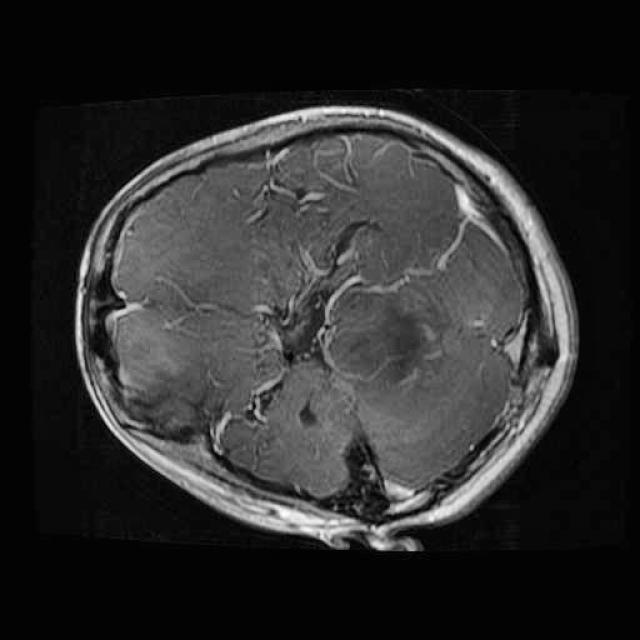Tumor: (123, 342, 245, 462)
